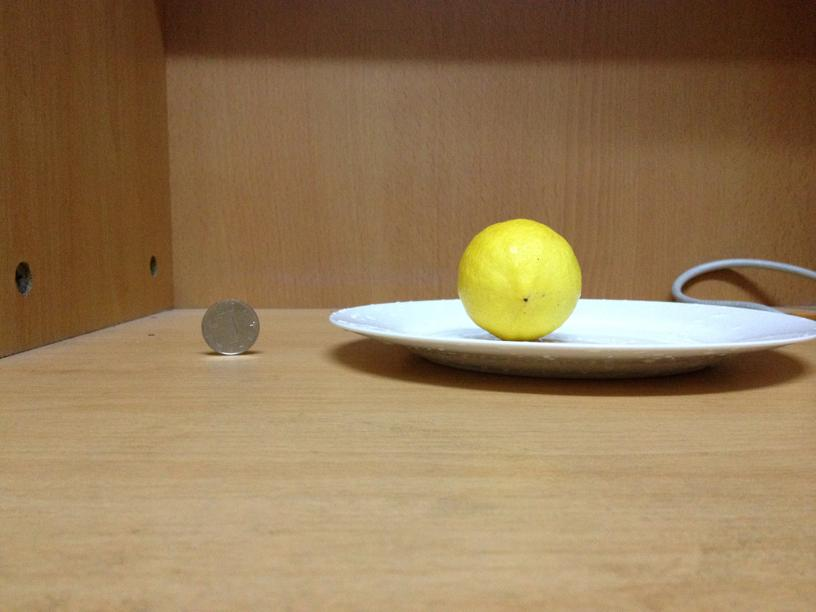coin: (202, 304, 261, 353)
lemon: (455, 215, 581, 335)
